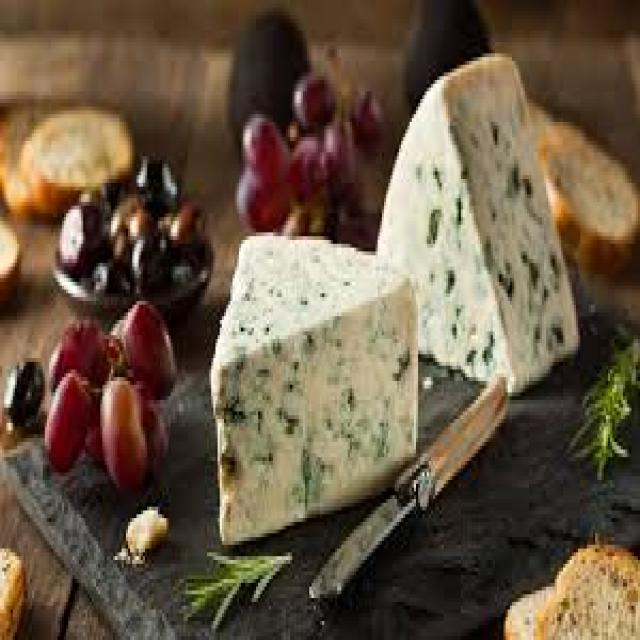Cheese: (374, 42, 582, 385), (216, 222, 417, 528)
